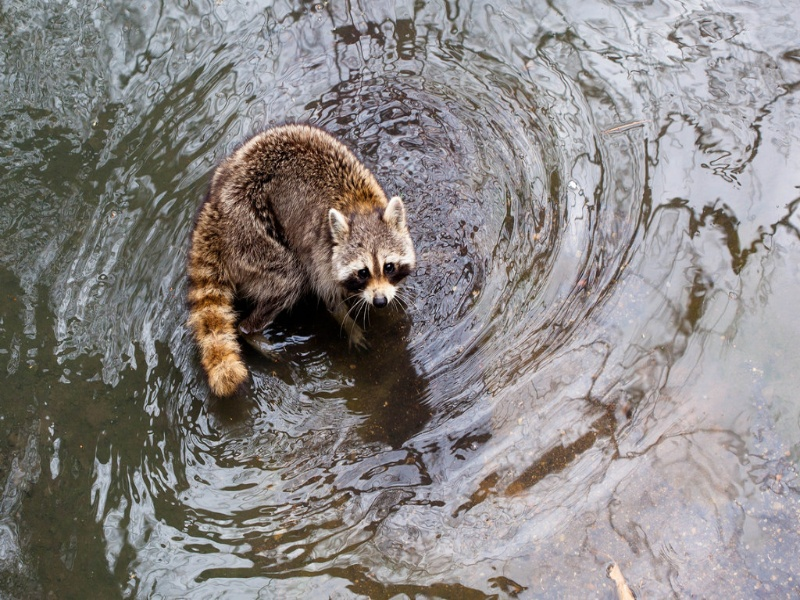raccoon: (176, 116, 424, 408)
